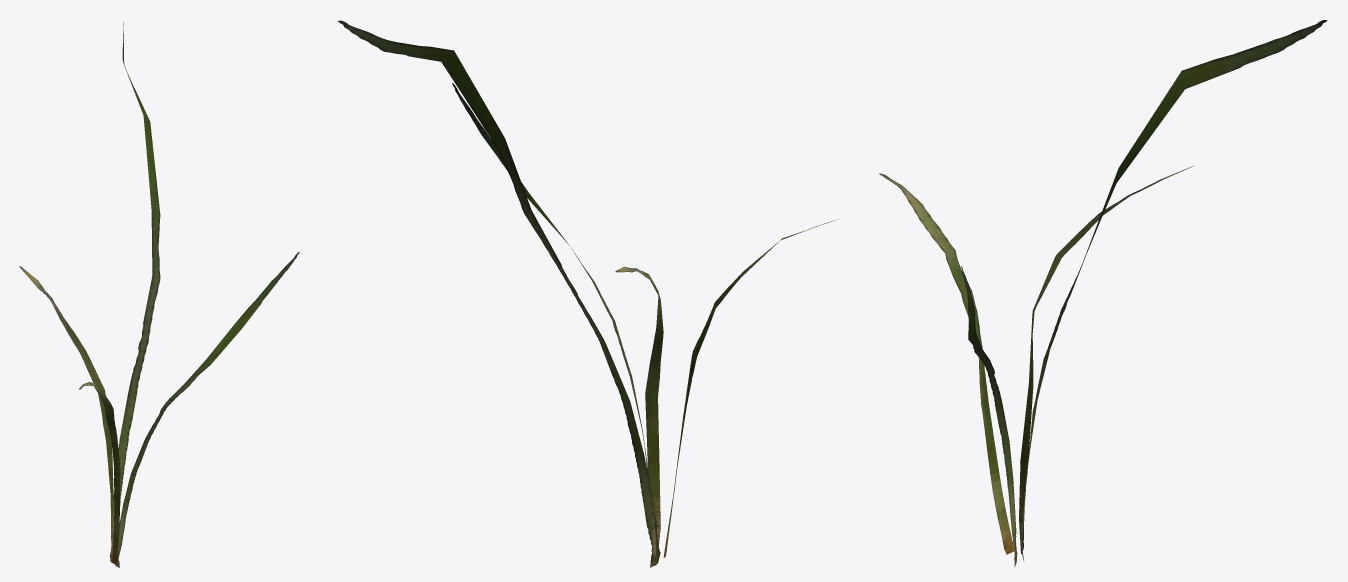
The model's file is grass-medium-01-tiny-a.glb.
3 views of the same model, side by side, from view 1: azimuth 30°, elevation 25°; view 2: azimuth 150°, elevation 25°; view 3: azimuth 270°, elevation 25° (orthographic). The views are drawn at different scales.
Parts seen in each view (by area): view 1: grass_medium_01_tiny_a; view 2: grass_medium_01_tiny_a; view 3: grass_medium_01_tiny_a.
Part boxes in pixels (box(x1,y1,x2,y2)): grass_medium_01_tiny_a: box(19, 22, 299, 567); grass_medium_01_tiny_a: box(338, 20, 835, 567); grass_medium_01_tiny_a: box(879, 20, 1327, 567).
Size of the model in its own units: 0.0674 by 0.1125 by 0.0738.
Materials: 1 (1 with a texture image).
